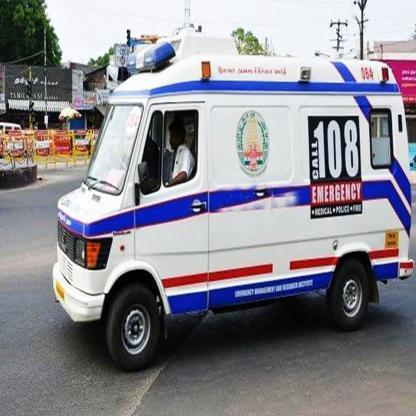Ambulance: (306, 115, 365, 189)
